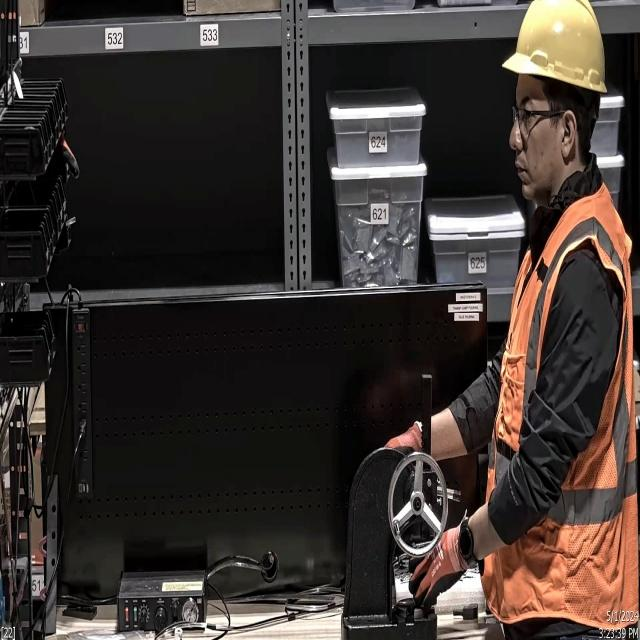gloves: (408, 519, 465, 613)
